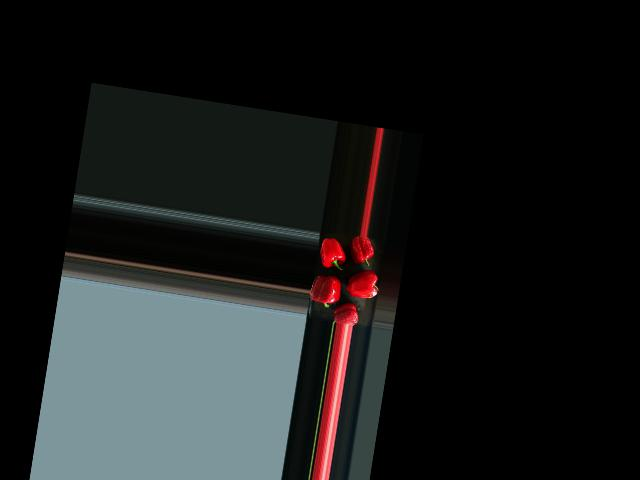bell_pepper: (331, 299, 365, 326)
